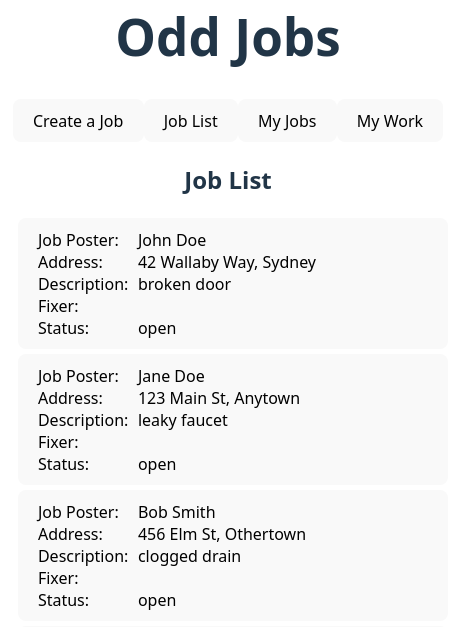
Test: Clicking a job on the Job List page opens the Single Job page with all job details
This screenshot has width=465, height=627.
Click the button "Job Poster:" at (233, 284), box [18,218,448,349]
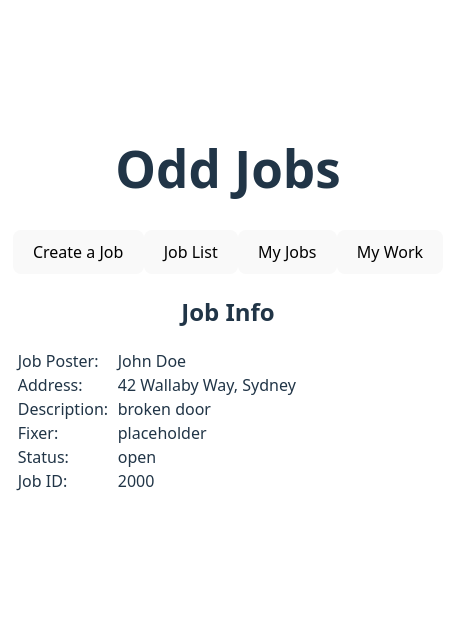
Expected: the heading "Job Info" is shown, [181,294,275,328]
Expected: the text "placeholder" is shown, [118,422,206,444]
Expected: the text "2000" is shown, [118,470,154,492]
